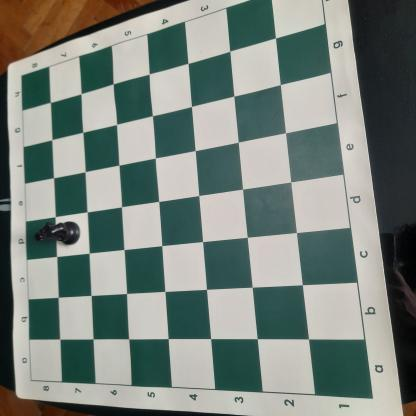black-knight: (34, 221, 82, 246)
